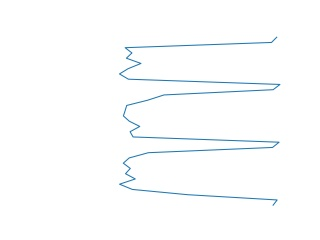majorRiverChannelBar: (115, 36, 285, 207)
